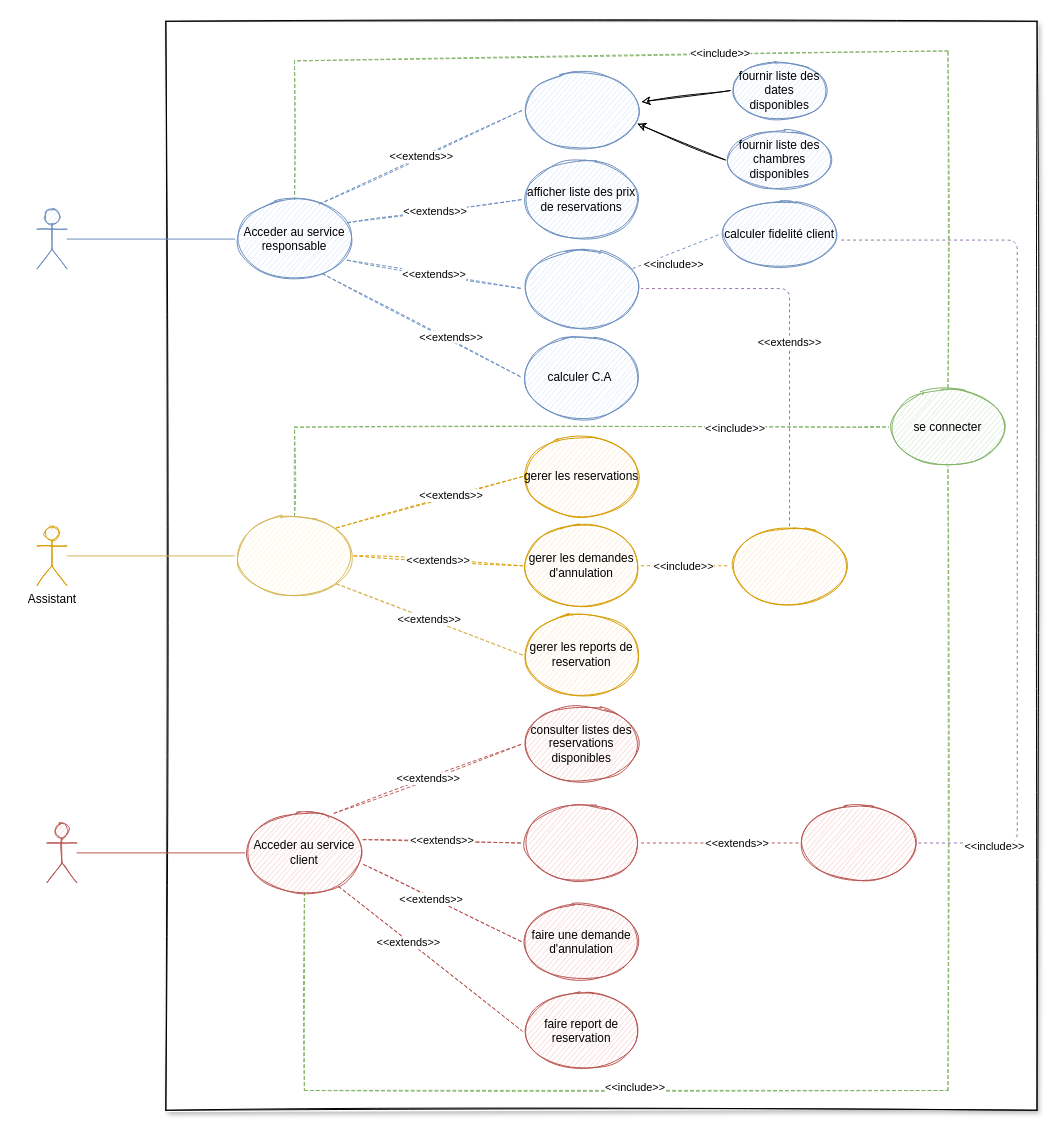
Image size: 1061x1134. Some labels were removed from this diagram. Here are the shapes that lost their labels. From the top down, the centre of each, then its label:
[581,110]: fournir listes
[51,238]: Responsable
[581,288]: definir les remises et les promo
[294,555]: Acceder au service Assistant
[789,565]: definir le % remboursement
[61,852]: Client
[581,842]: faire une demande de reservation
[858,842]: beneficier des remise et promo
